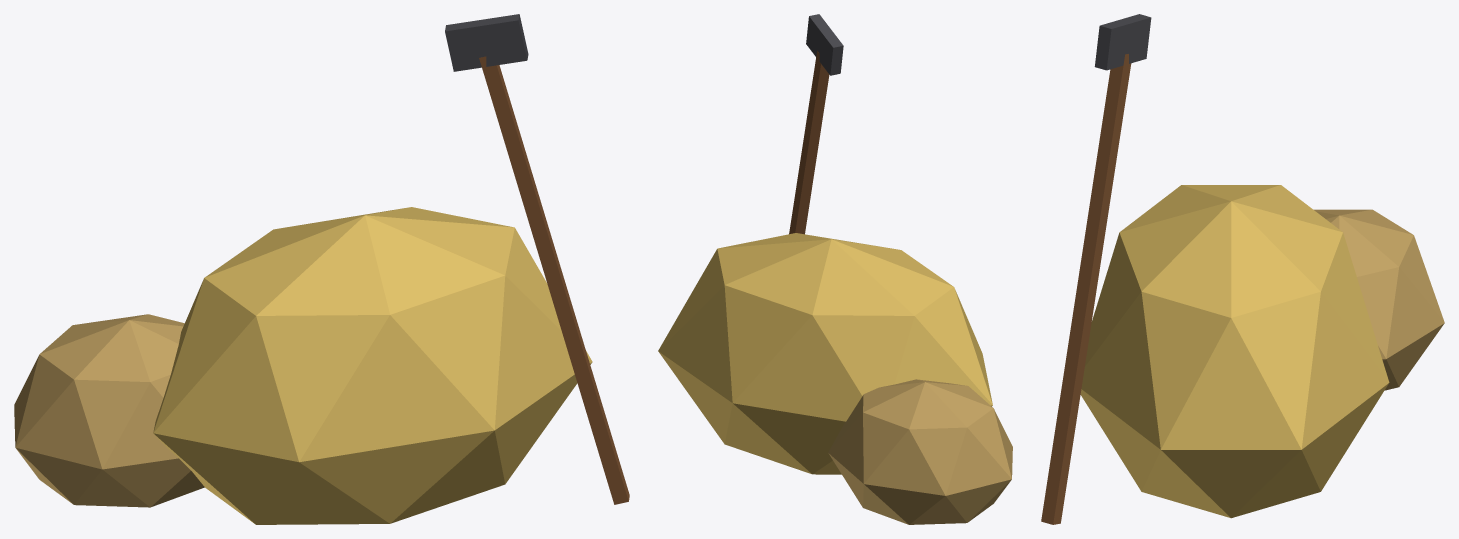
The model's file is Dorf_Heu.fbx.
3 renders of one model, left to right at view 1: azimuth 30°, elevation 25°; view 2: azimuth 150°, elevation 25°; view 3: azimuth 270°, elevation 25°, orthographic. The views are drawn at different scales.
Parts seen in each view (by area): view 1: Dorf_Heu; view 2: Dorf_Heu; view 3: Dorf_Heu.
Boxes of the visible parts, box(x1,y1,x2,y2) form: Dorf_Heu: box(14, 14, 629, 524); Dorf_Heu: box(658, 14, 1012, 524); Dorf_Heu: box(1041, 14, 1444, 524).
Size of the model in its own units: 1.49 by 1.41 by 1.12.
